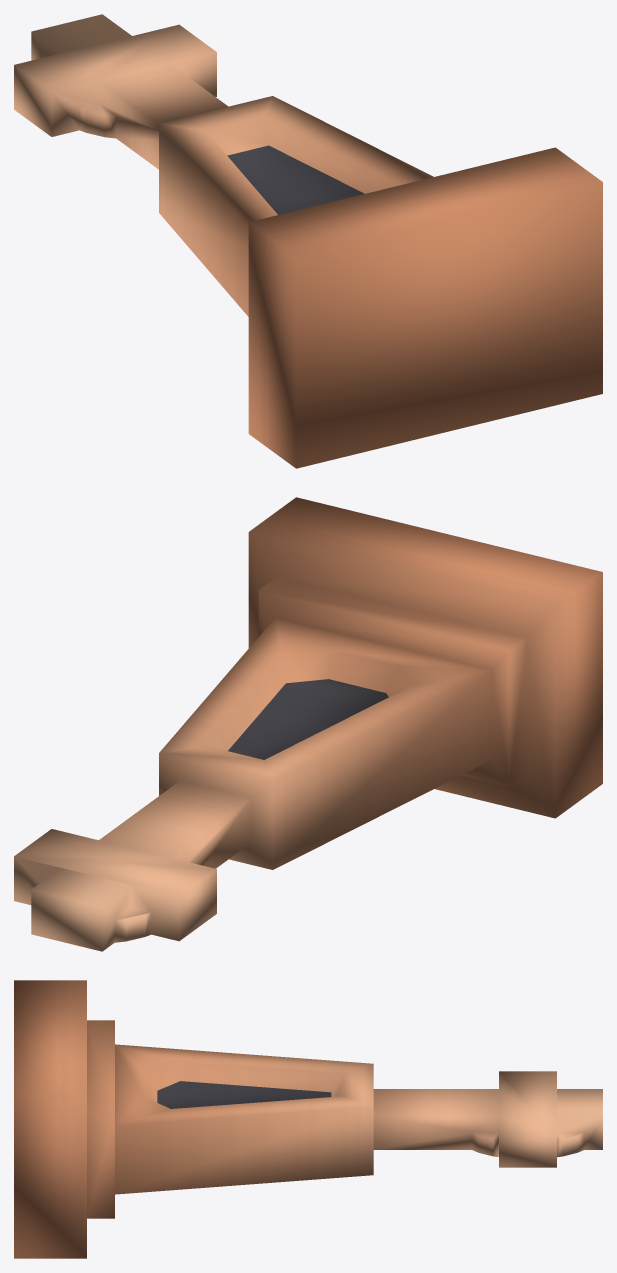
Rendered from gravestone-cross.obj.
3 views of the same model, one above another, from view 1: azimuth 30°, elevation 25°; view 2: azimuth 150°, elevation 25°; view 3: azimuth 270°, elevation 25° (orthographic). The views are drawn at different scales.
Visible parts, largest first — view 1: gravestone-cross.001; view 2: gravestone-cross.001; view 3: gravestone-cross.001.
Boxes of the visible parts, box(x1,y1,x2,y2) form: gravestone-cross.001: box(14, 14, 602, 468); gravestone-cross.001: box(14, 497, 602, 951); gravestone-cross.001: box(14, 980, 602, 1258).
Bounding box in the file's own units: 0.4415 × 0.2913 × 0.9543.
